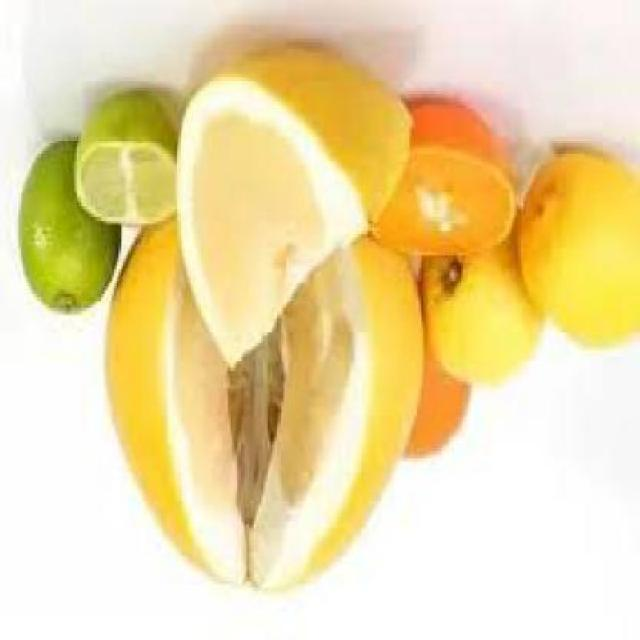BIODEGRADABLE: (107, 220, 425, 598), (176, 42, 419, 375), (370, 94, 521, 266), (514, 146, 638, 351), (419, 209, 547, 382), (22, 140, 123, 318), (79, 98, 179, 234), (405, 342, 472, 462)
